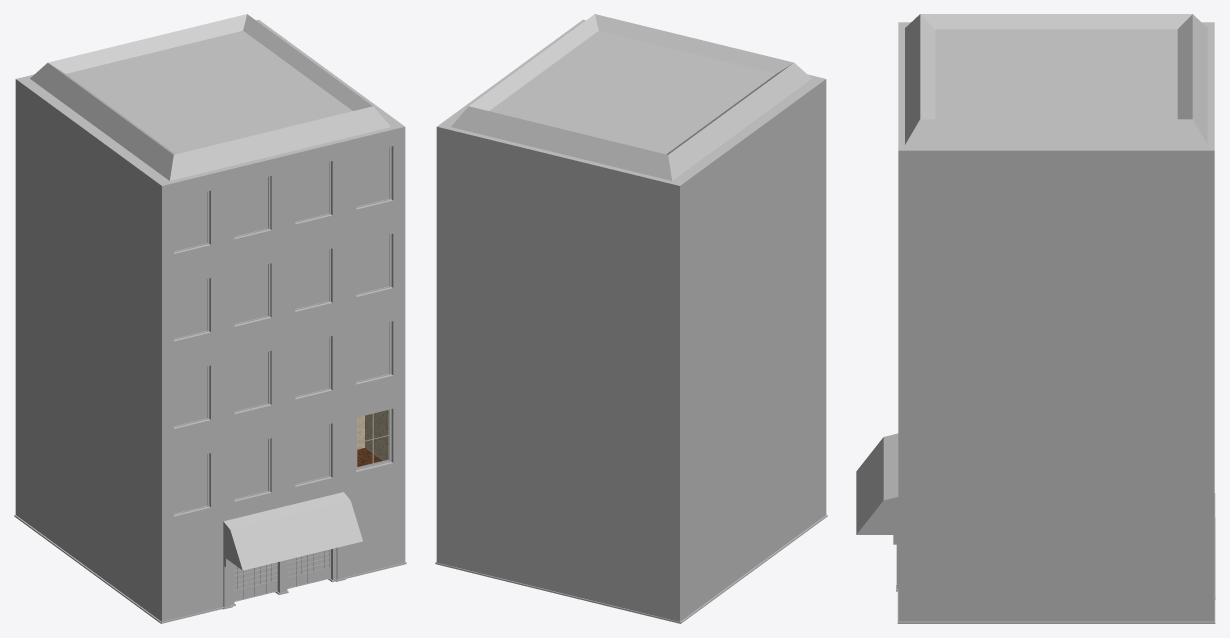
The model's file is building5.fbx.
The picture shows the model from 3 angles, left to right: view 1: azimuth 30°, elevation 25°; view 2: azimuth 150°, elevation 25°; view 3: azimuth 270°, elevation 25°; orthographic projection. The views are drawn at different scales.
Visible parts, largest first — view 1: building5, Cube.001; view 2: building5; view 3: building5.
Boxes of the visible parts, x1,y1,x2,y2 form: building5: [14, 14, 406, 623]; Cube.001: [357, 410, 388, 466]; building5: [435, 14, 827, 623]; building5: [856, 14, 1215, 623].
Bounding box in the file's own units: 14611 × 25915 × 17123.
